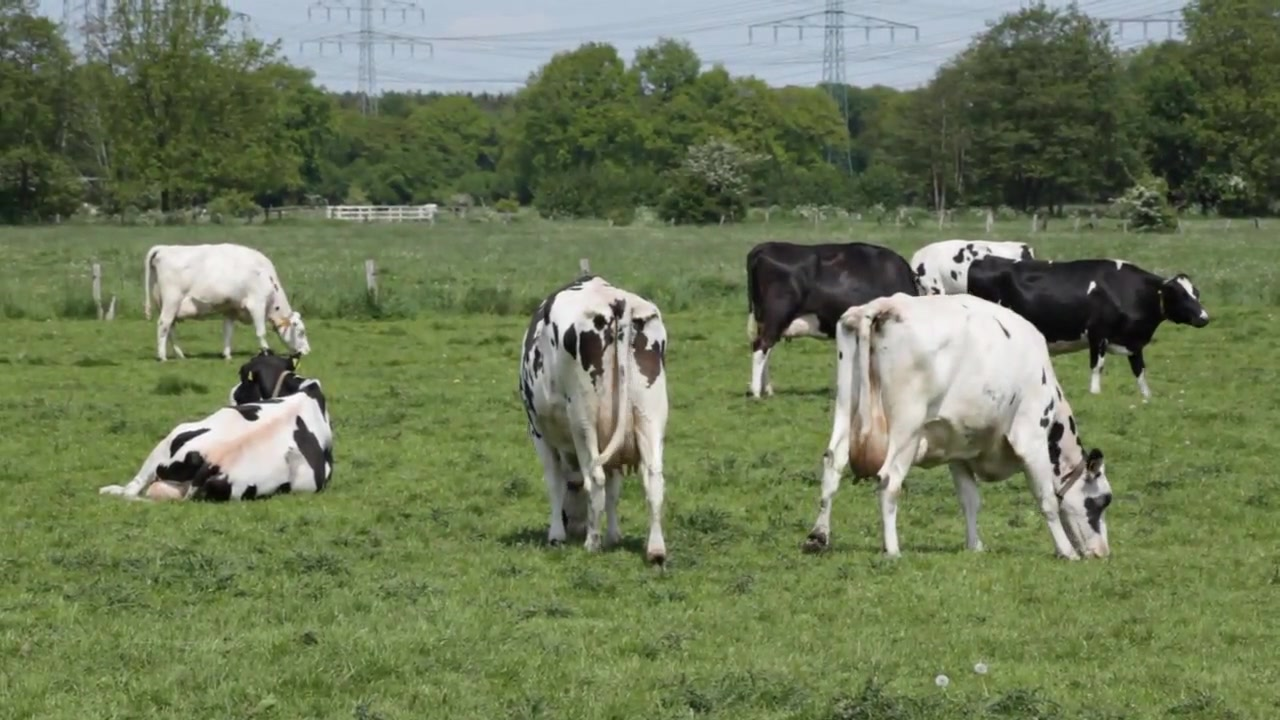cow: (800, 290, 1115, 561)
